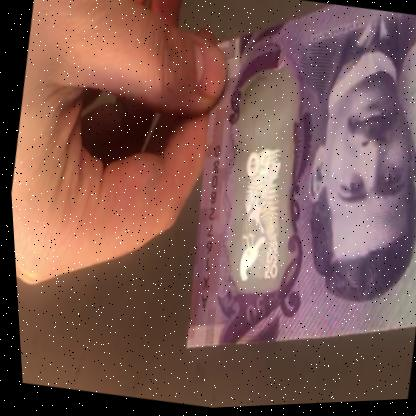50F: (210, 82, 309, 295)
